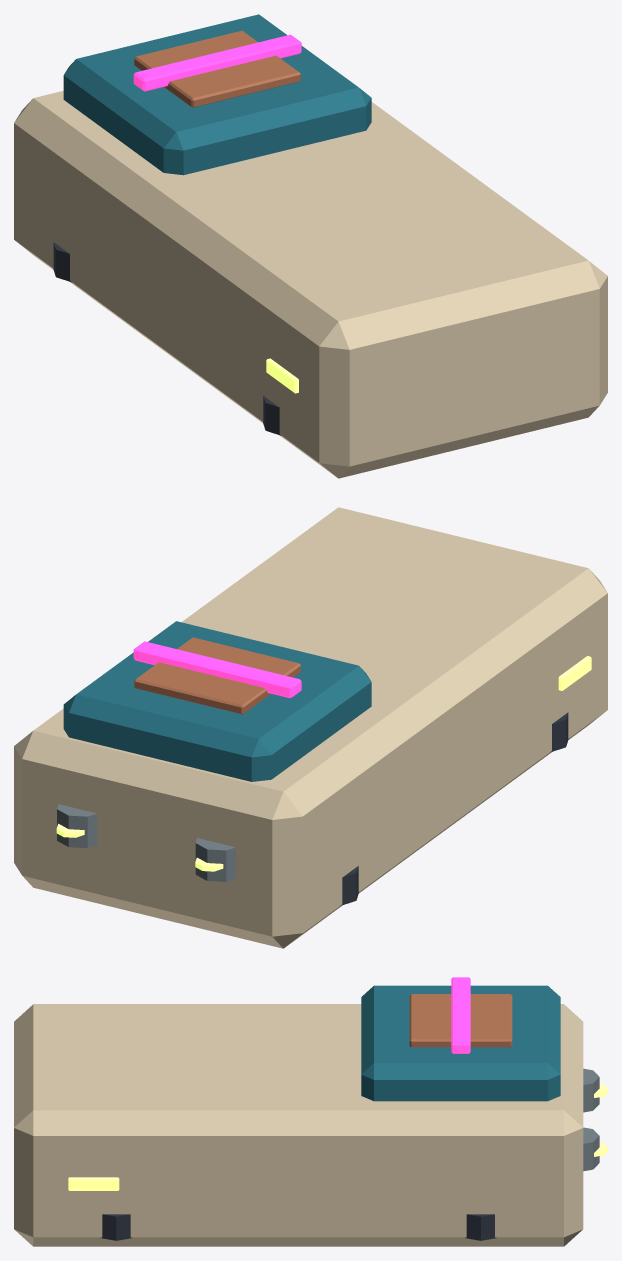
File: vehicles_001_seed100.glb
The picture shows the model from 3 angles, top to bottom: view 1: azimuth 30°, elevation 25°; view 2: azimuth 150°, elevation 25°; view 3: azimuth 270°, elevation 25°; orthographic projection. The views are drawn at different scales.
Visible parts, largest first — view 1: vehicles_001_seed100; view 2: vehicles_001_seed100; view 3: vehicles_001_seed100.
Boxes of the visible parts, box(x1,y1,x2,y2) form: vehicles_001_seed100: box(14, 14, 607, 478); vehicles_001_seed100: box(14, 507, 607, 948); vehicles_001_seed100: box(14, 977, 607, 1246).
Bounding box in the file's own units: 2.49 × 1.67 × 4.9.
